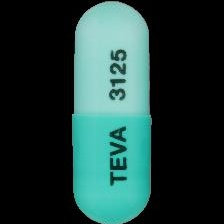67296-0122: (0, 0, 224, 224)
